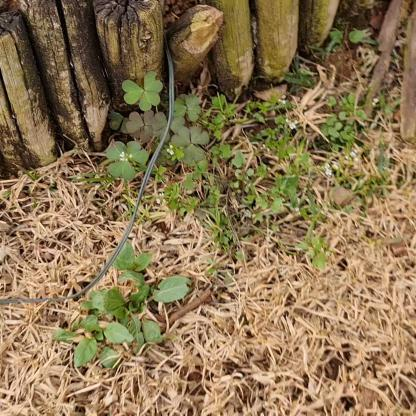Weeds: (51, 238, 191, 368), (109, 71, 209, 191)
